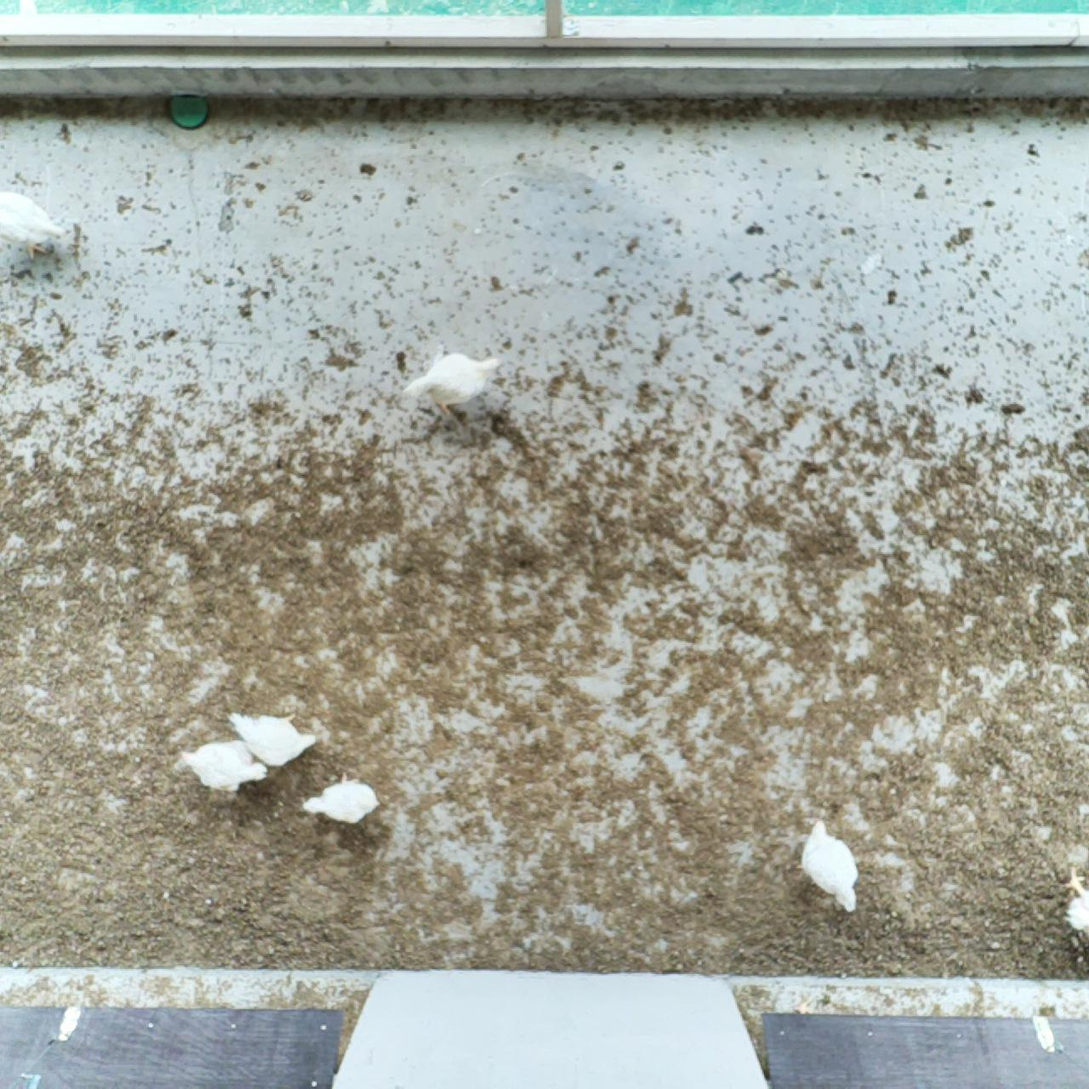chicken: (400, 344, 502, 418), (794, 817, 863, 914), (223, 704, 319, 773), (177, 736, 269, 795), (298, 767, 383, 829)
